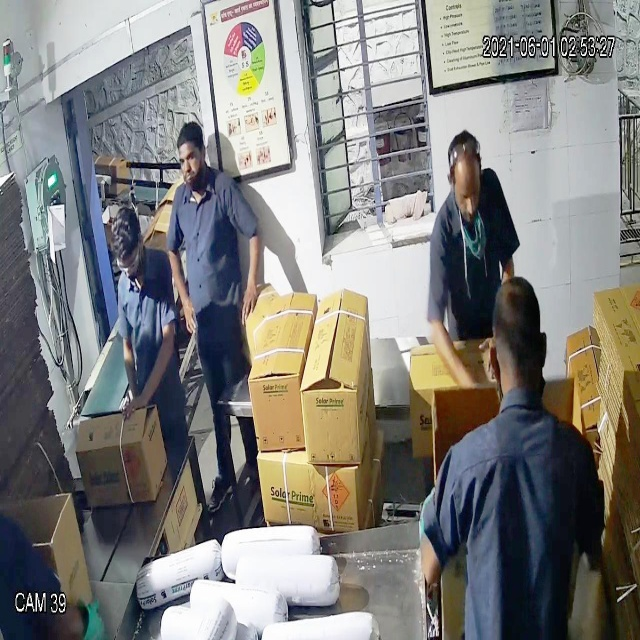Gafas: (106, 244, 145, 284)
Sin_gafas: (176, 148, 208, 176)
